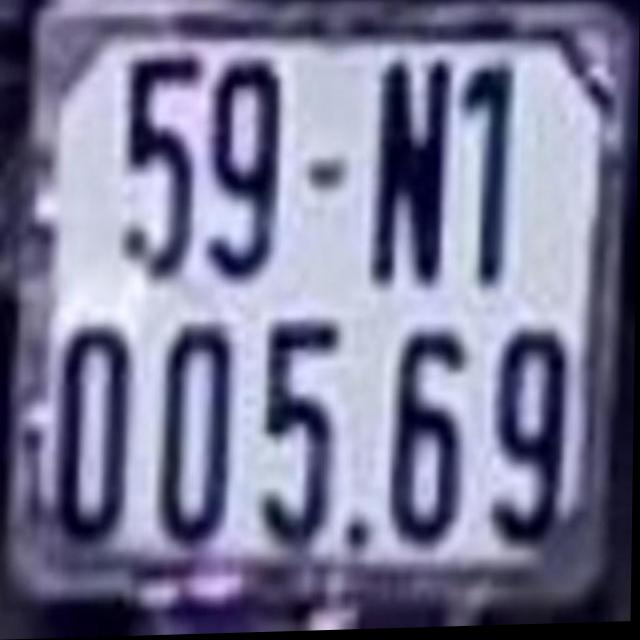0: (159, 317, 234, 539), (60, 327, 129, 525)
1: (458, 60, 510, 297)
5: (261, 311, 340, 550), (127, 51, 202, 287)
6: (394, 328, 467, 545)
9: (490, 329, 566, 552), (210, 56, 282, 281)
N: (377, 56, 447, 282)
